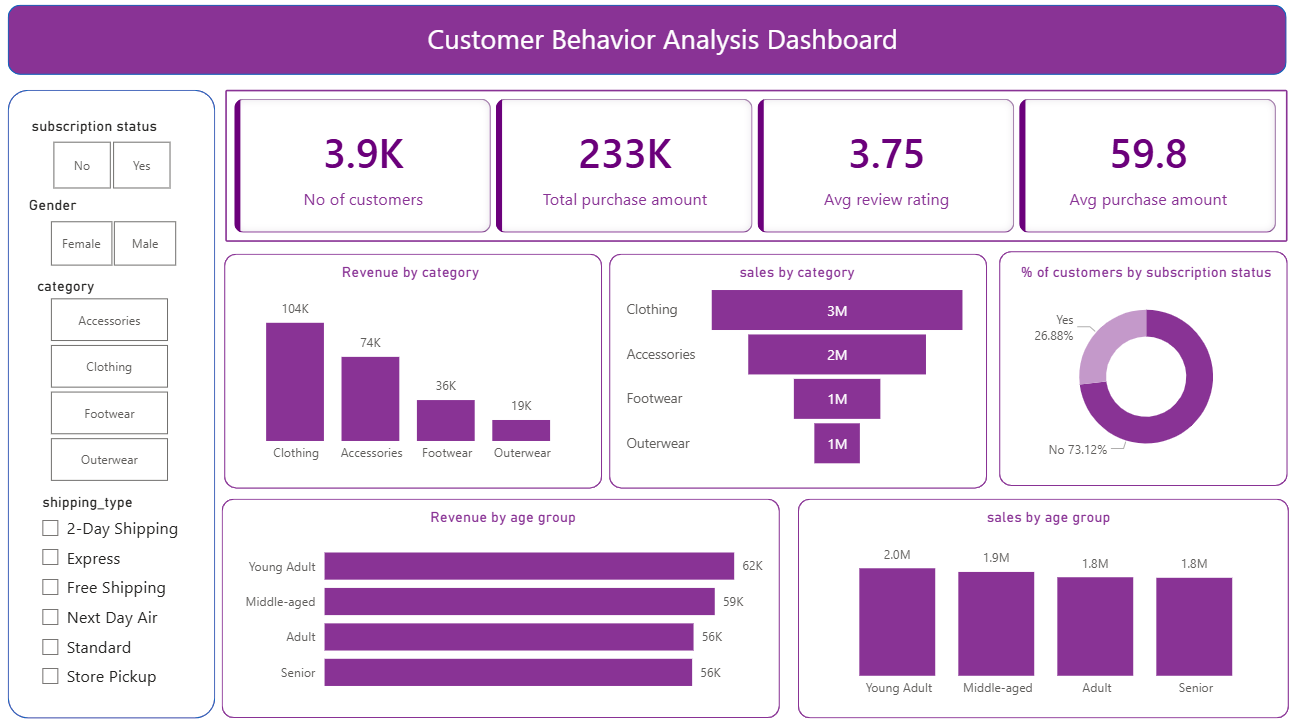

Layout of this report page (visuals, bound fields, positions):
{"tool":"powerbi","page":{"name":"Dashboard","canvas":[1280,720],"ordinal":0},"visuals":[{"type":"donutChart","title":"%  revenue by subscription status","fields":{"Category":["public customer.subscription_status"],"Y":["Sum(public customer.purchase_amount)"]},"box":[993.8,271.2,261.2,200],"z":0},{"type":"cardVisual","fields":{"Data":["public customer.No of customers","public customer.Total purchase amount","public customer.Avg review rating","public customer.Avg purchase amount"]},"box":[226.2,96.6,1039.4,149.2],"z":1000},{"type":"shape","box":[13.5,13.5,1251,68.5],"z":2000},{"type":"textbox","box":[184.6,23.2,939.1,47.7],"z":3000},{"type":"shape","box":[13.5,96.6,203,615.1],"z":4000},{"type":"slicer","title":"subscription status","fields":{"Values":["public customer.subscription_status"]},"box":[31.2,123.8,165,76.2],"z":5000},{"type":"slicer","title":"Gender","fields":{"Values":["public customer.gender"]},"box":[28.8,200,172.5,75],"z":6000},{"type":"slicer","fields":{"Values":["public customer.category"]},"box":[28.8,275,165,211.2],"z":7000},{"type":"slicer","fields":{"Values":["public customer.shipping_type"]},"box":[33.8,486.2,162.5,206.2],"z":8000},{"type":"shape","box":[225,256.2,370,230],"z":9000},{"type":"shape","box":[601.2,256.2,370,230],"z":10000},{"type":"shape","box":[983.8,253.8,282.5,230],"z":11000},{"type":"donutChart","title":"% of customers by subscription status","fields":{"Category":["public customer.subscription_status"],"Y":["Sum(public customer.purchase_amount)"]},"box":[993.8,266.2,266.2,205],"z":12000},{"type":"columnChart","title":"Revenue by category","fields":{"Category":["public customer.category"],"Y":["Sum(public customer.purchase_amount)"]},"box":[231.2,265,351.2,206.2],"z":13000},{"type":"funnel","title":"sales by category","fields":{"Category":["public customer.category"],"Y":["Sum(public customer.customer_id)"]},"box":[613.8,266.2,343.8,205],"z":14000},{"type":"shape","box":[222.5,496.2,546.2,215],"z":15000},{"type":"shape","box":[786.3,496.5,480.6,215.2],"z":16000},{"type":"clusteredBarChart","title":"Revenue by age group","fields":{"Category":["public customer.age_group"],"Y":["Sum(public customer.purchase_amount)"]},"box":[235,505,525,196.2],"z":18000},{"type":"columnChart","title":"sales by age group","fields":{"Category":["public customer.age_group"],"Y":["Sum(public customer.customer_id)"]},"box":[802.5,505,457.5,196.2],"z":19000}]}

Visuals, with their boxes in screenshot pixels (x1, y1, x2, y2), scaled from the page's 1280x720 canvas onto the 1301x727 screenshot:
"%  revenue by subscription status" donutChart: <region>1010, 274, 1276, 476</region>
cardVisual - public customer.No of customers x public customer.Total purchase amount: <region>230, 98, 1286, 248</region>
shape: <region>14, 14, 1285, 83</region>
textbox: <region>188, 23, 1142, 72</region>
shape: <region>14, 98, 220, 719</region>
"subscription status" slicer: <region>32, 125, 199, 202</region>
"Gender" slicer: <region>29, 202, 205, 278</region>
slicer - public customer.category: <region>29, 278, 197, 491</region>
slicer - public customer.shipping_type: <region>34, 491, 200, 699</region>
shape: <region>229, 259, 605, 491</region>
shape: <region>611, 259, 987, 491</region>
shape: <region>1000, 256, 1287, 489</region>
"% of customers by subscription status" donutChart: <region>1010, 269, 1281, 476</region>
"Revenue by category" columnChart: <region>235, 268, 592, 476</region>
"sales by category" funnel: <region>624, 269, 973, 476</region>
shape: <region>226, 501, 781, 718</region>
shape: <region>799, 501, 1288, 719</region>
"Revenue by age group" clusteredBarChart: <region>239, 510, 772, 708</region>
"sales by age group" columnChart: <region>816, 510, 1281, 708</region>
